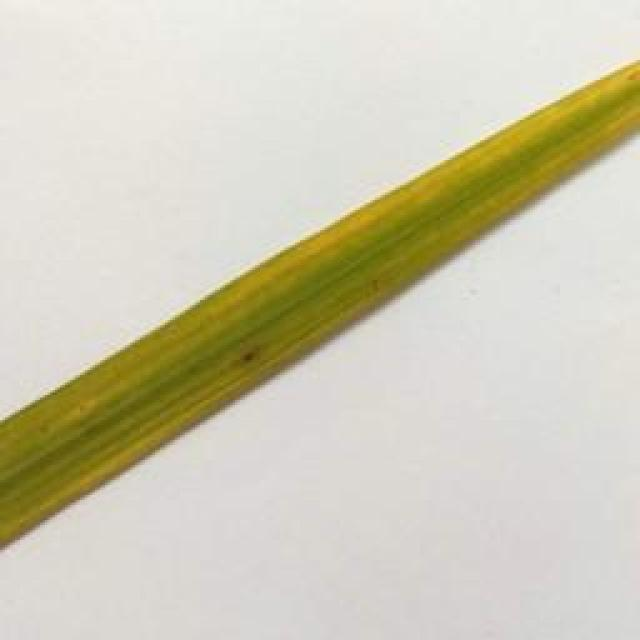Brown_Spot: (221, 348, 265, 371), (357, 282, 384, 291)
